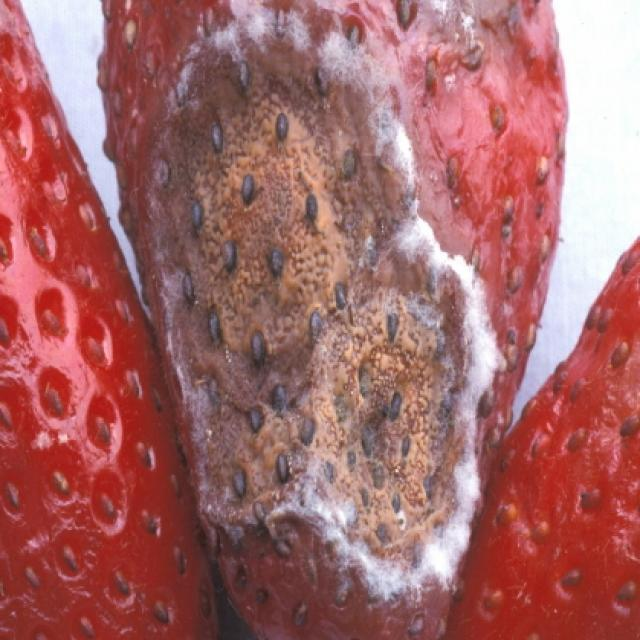Anthracnose Fruit Rot: (95, 0, 566, 640)
